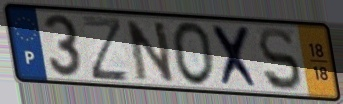3: (42, 12, 85, 79)
N: (123, 19, 177, 85)
O: (170, 19, 217, 88)
S: (256, 26, 305, 95)
X: (209, 23, 263, 92)
Z: (79, 14, 132, 84)
